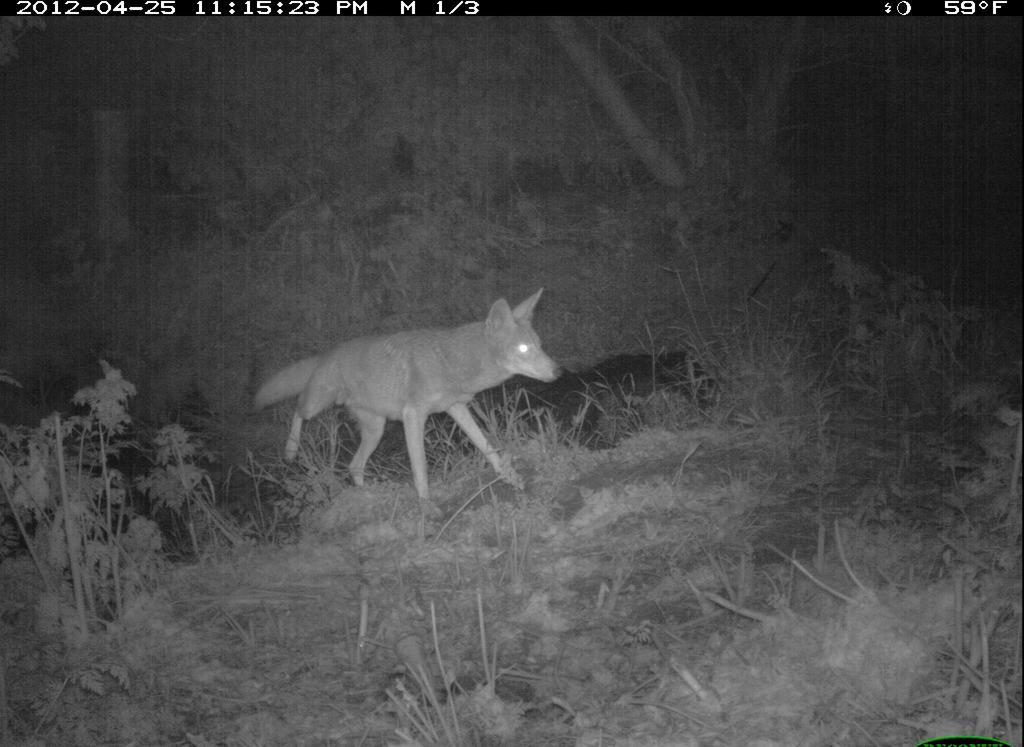coyote: (248, 289, 568, 511)
